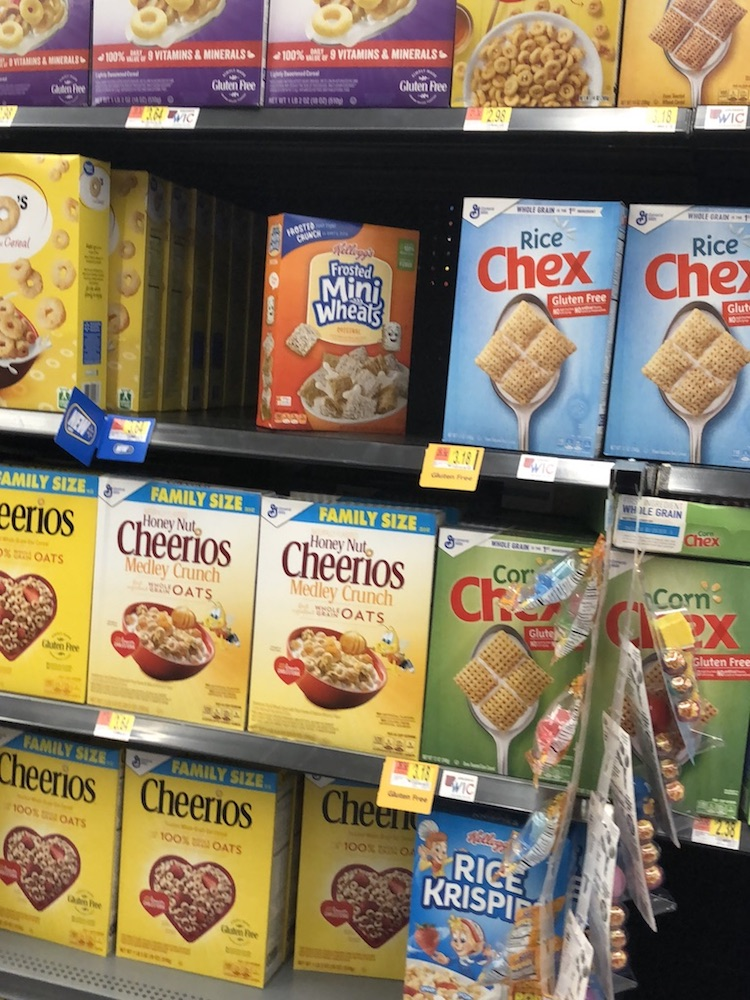Frosted Mini Original -9295869: (265, 223, 409, 427)
